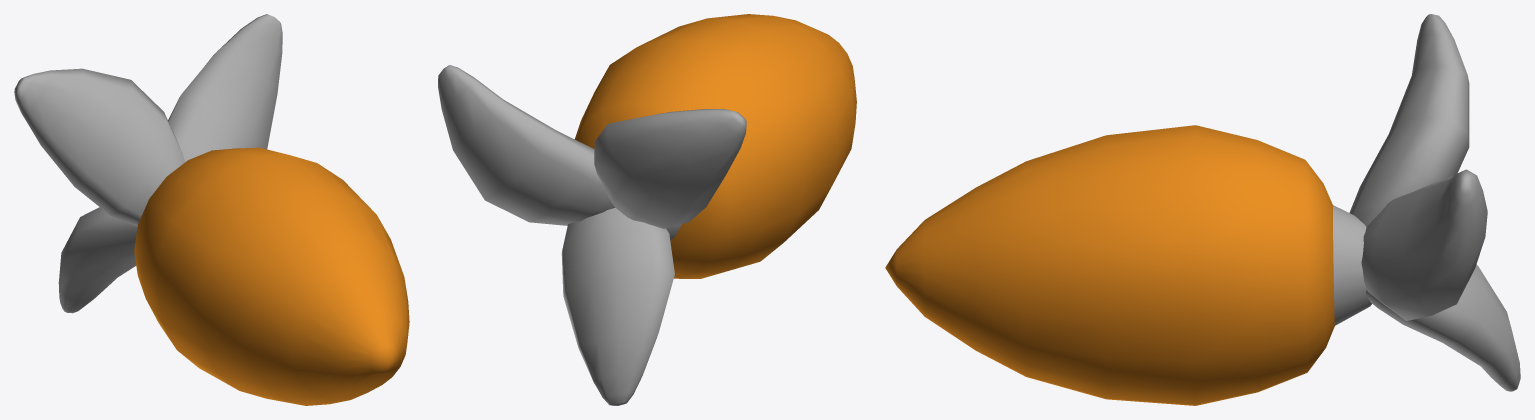
The model's file is SM_Carrot.fbx.
3 renders of one model, left to right at view 1: azimuth 30°, elevation 25°; view 2: azimuth 150°, elevation 25°; view 3: azimuth 270°, elevation 25°, orthographic. The views are drawn at different scales.
Parts seen in each view (by area): view 1: Carrot; view 2: Carrot; view 3: Carrot.
Part boxes in pixels (x1,y1,x2,y2): Carrot: [14, 14, 409, 405]; Carrot: [438, 14, 856, 405]; Carrot: [885, 14, 1520, 405].
Size of the model in its own units: 44.09 by 41.87 by 73.16.
